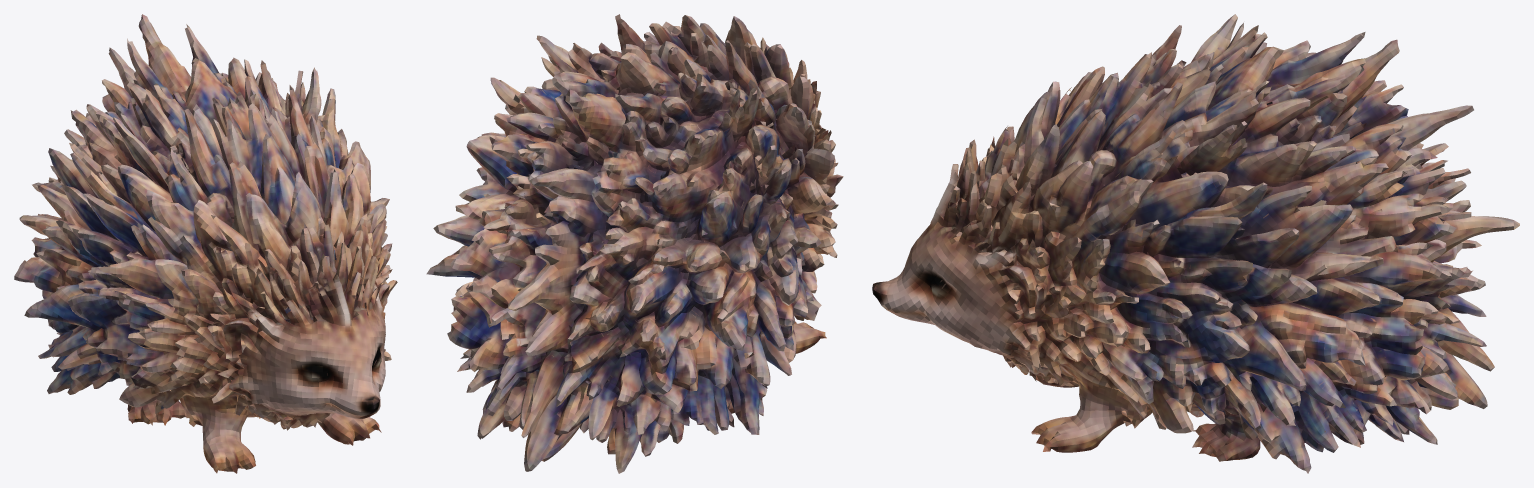
The model's file is creature_cliffspike_lod0.glb.
3 renders of one model, left to right at view 1: azimuth 30°, elevation 25°; view 2: azimuth 150°, elevation 25°; view 3: azimuth 270°, elevation 25°, orthographic. The views are drawn at different scales.
Size of the model in its own units: 1.21 by 1.22 by 1.89.
1 material, 1 textured.
